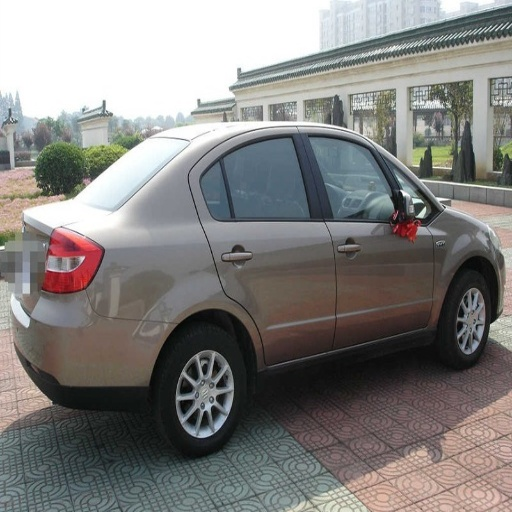back_bumper: (13, 289, 166, 404)
back_right_door: (193, 127, 333, 367)
